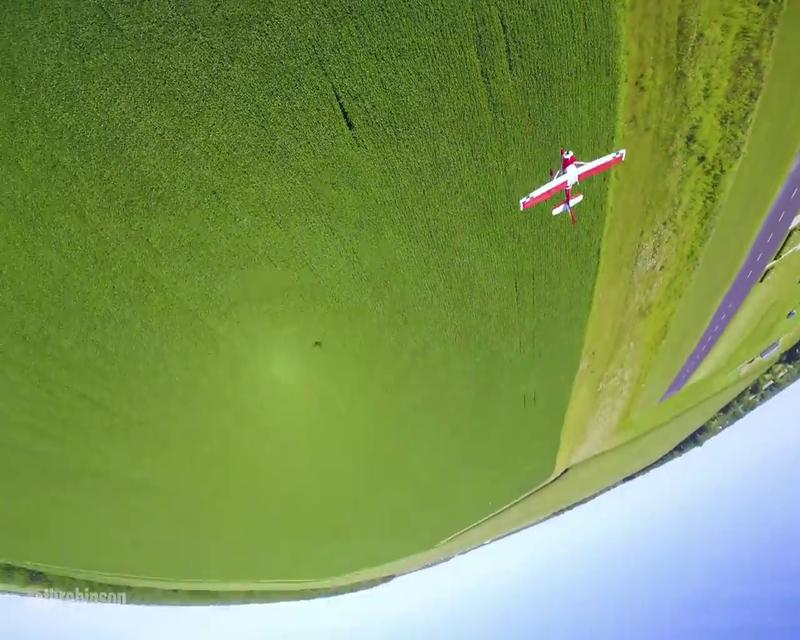UAV: (518, 145, 626, 226)
